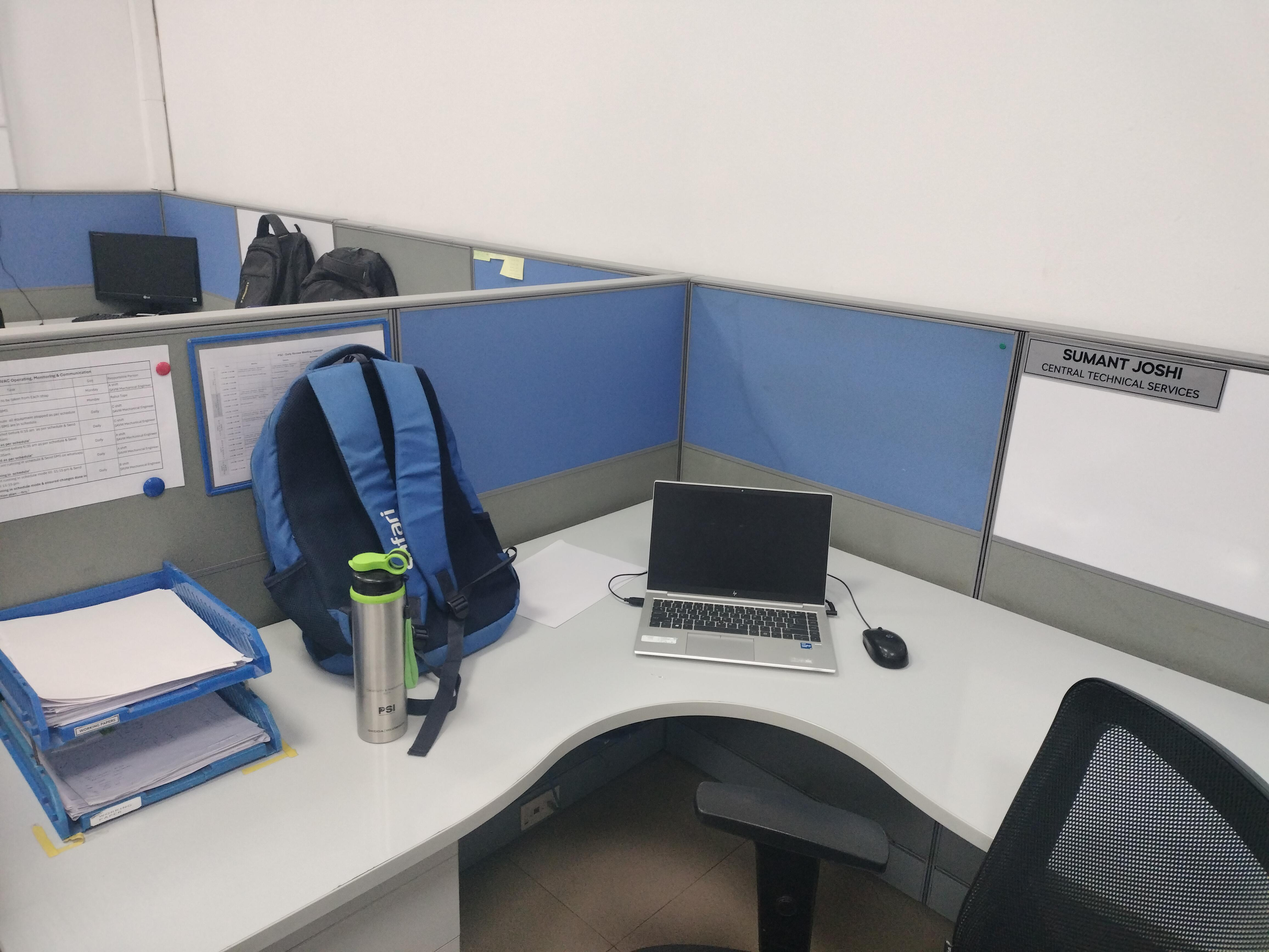bag: (249, 341, 523, 756)
bottle: (349, 542, 412, 745)
calender: (184, 315, 396, 499)
filetray: (0, 556, 286, 845)
laptop: (632, 476, 840, 674)
mouse: (858, 626, 914, 671)
nameplate: (1019, 329, 1236, 415)
page: (0, 584, 254, 734), (1, 342, 189, 526), (41, 693, 275, 822)
